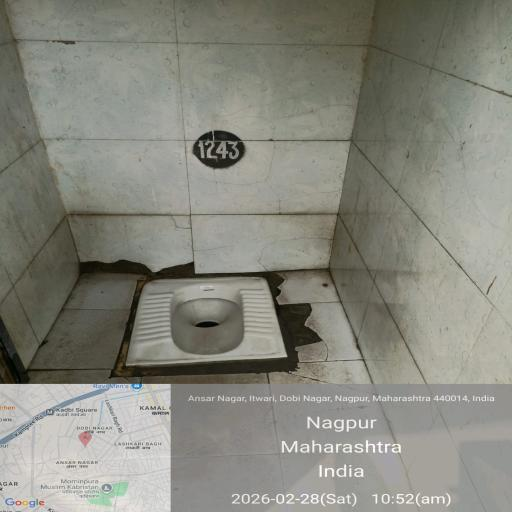clean_indian: (108, 254, 334, 399)
dirty_floor: (12, 362, 418, 512)
partial_dirty_floor: (23, 15, 483, 253)
